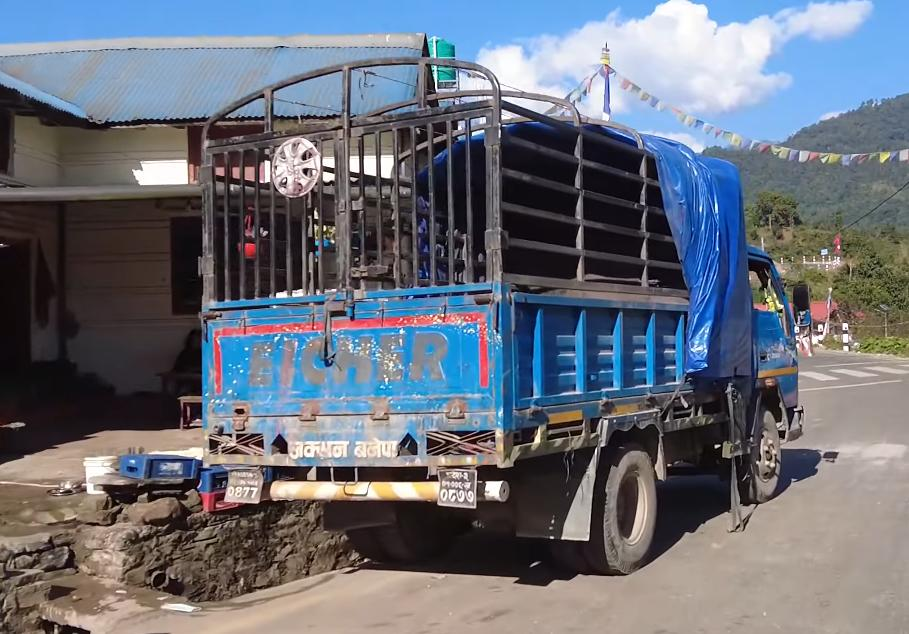mini_truck: (165, 45, 828, 575)
